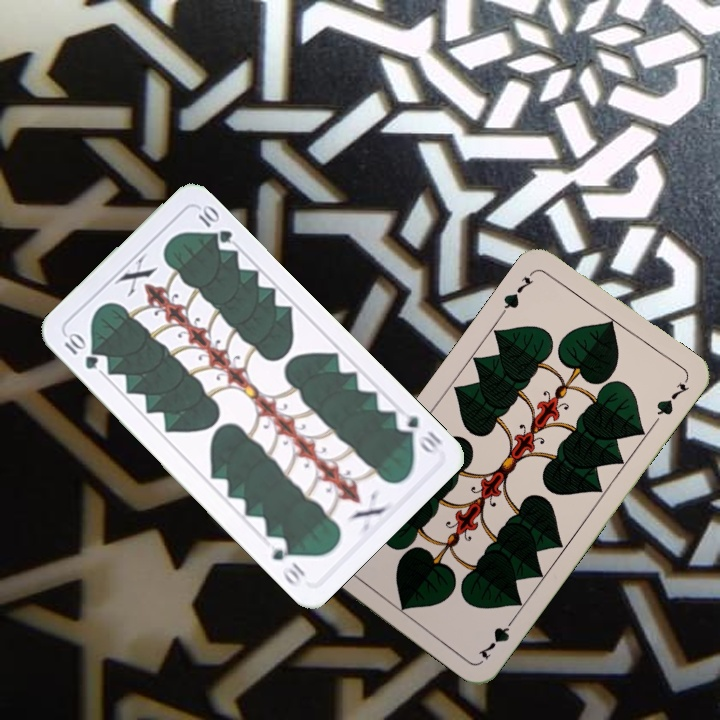G10: (390, 406, 447, 458), (60, 327, 101, 372)
G7: (474, 611, 519, 662), (498, 266, 538, 317)
